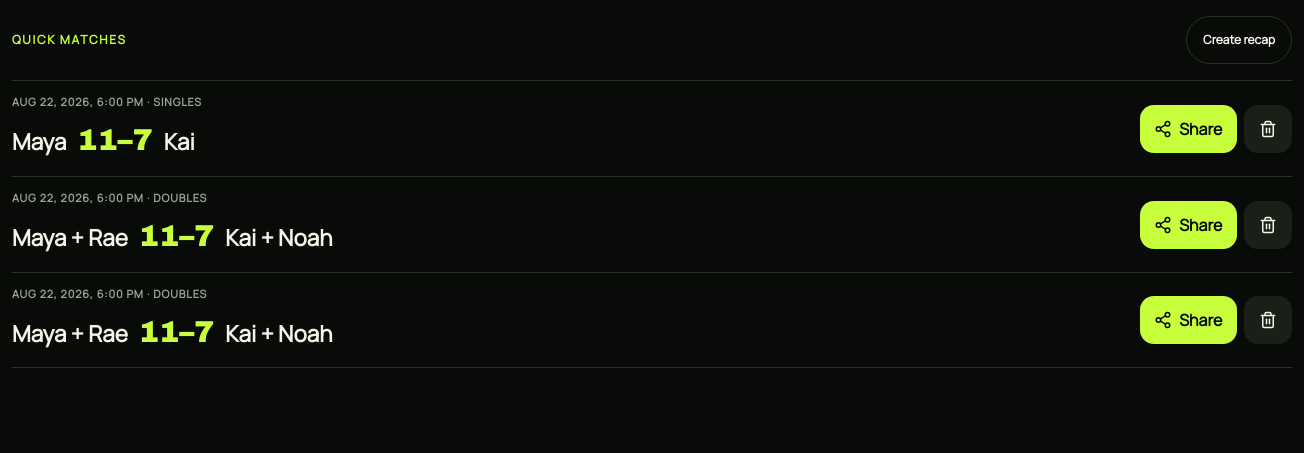
Scenario: Quick Match recap selection › omits a one-match format and explains its existing share path
Click the button "Create recap" at [1239, 40], box [1186,16,1292,64]
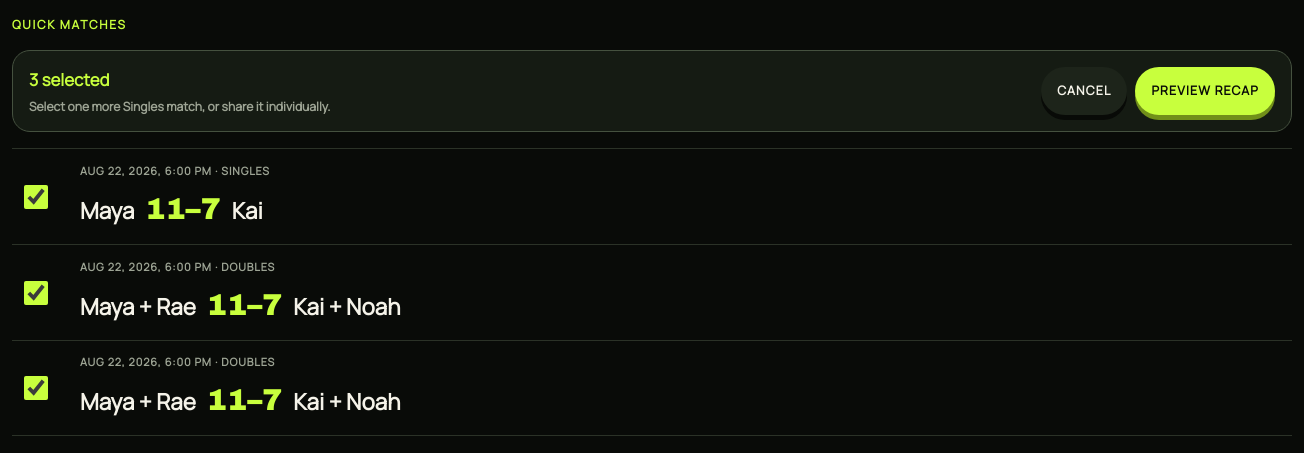
Result: the text "Select one more Singles match, or share it individually." is shown at [29,98,330,115]
Result: the button "Preview recap" is enabled at [1135,67,1275,115]
